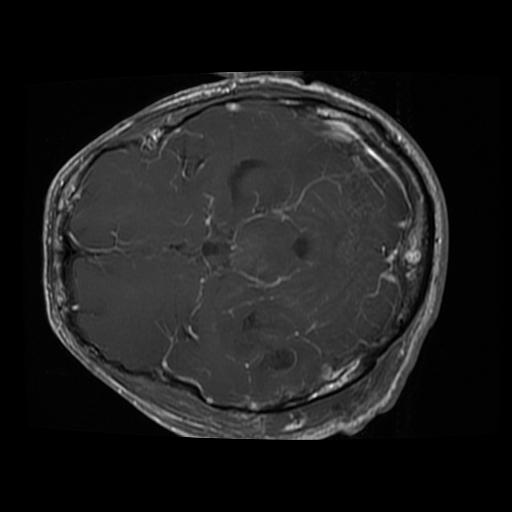glioma: (217, 296, 323, 396)
